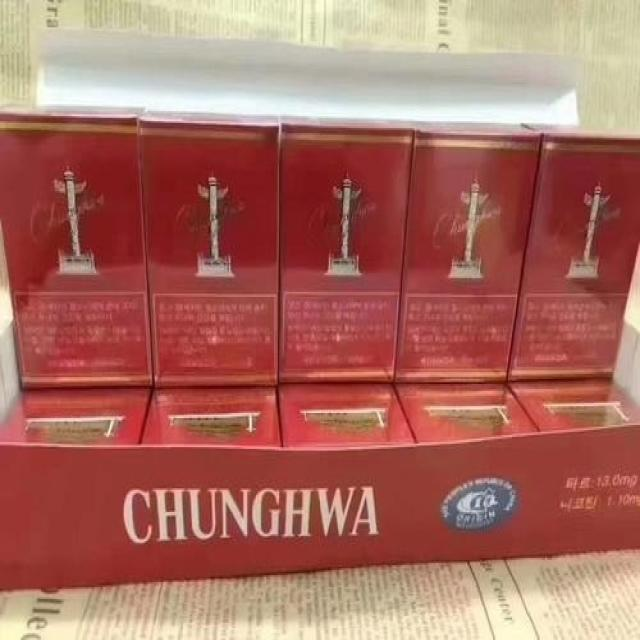box: (1, 427, 640, 592), (36, 29, 581, 123), (0, 106, 152, 391), (140, 109, 279, 387), (396, 121, 540, 382), (279, 116, 415, 382), (509, 125, 639, 381), (279, 384, 416, 449), (0, 387, 152, 445), (396, 384, 539, 444), (142, 387, 282, 447), (508, 381, 639, 430)
